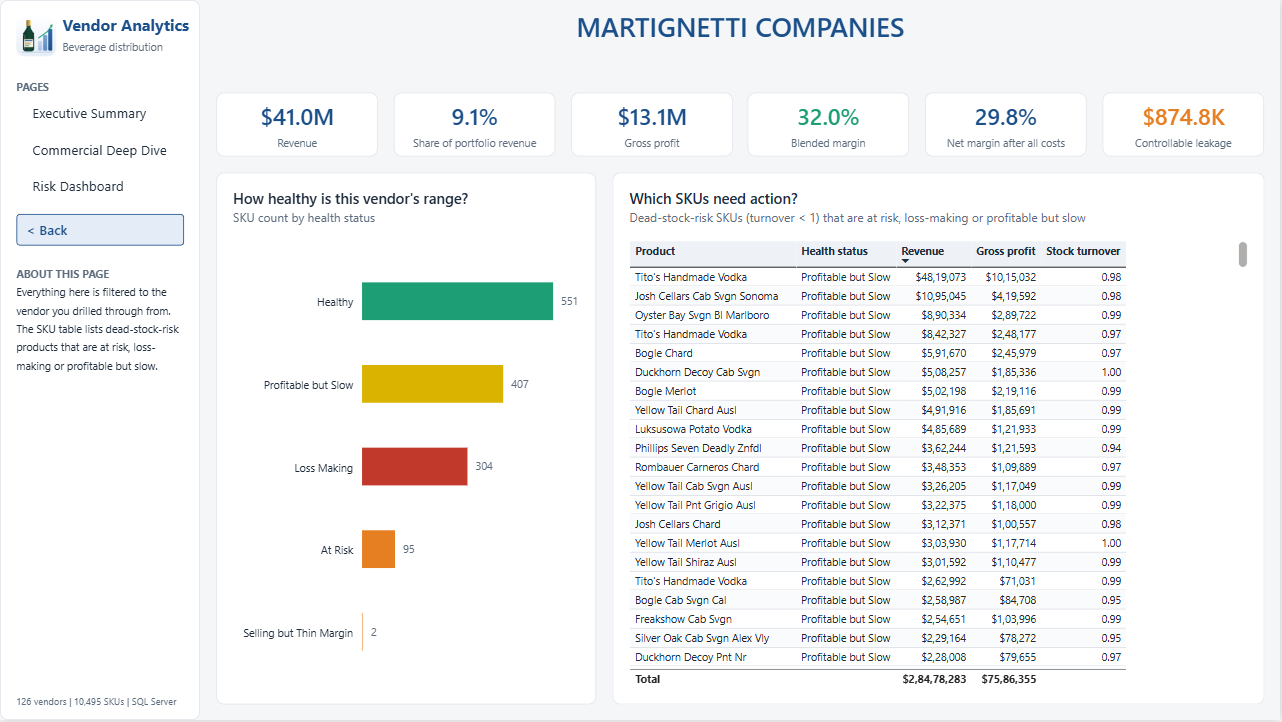

Layout of this report page (visuals, bound fields, positions):
{"tool":"powerbi","page":{"name":"Vendor Detail","canvas":[1920,1080],"ordinal":3},"visuals":[{"type":"actionButton","box":[0,0,100,40],"z":0},{"type":"card","fields":{"Values":["_Revenue Measures.Total Revenue"]},"box":[29.9,64,409.6,125.9],"z":1000},{"type":"card","fields":{"Values":["_Revenue Measures.Total Gross Profit"]},"box":[522.7,64,413.9,125.9],"z":2000},{"type":"card","fields":{"Values":["_Logistics and Cost Measures.Avg Net Margin After All Costs %"]},"box":[1017.6,64,411.7,125.9],"z":3000},{"type":"card","fields":{"Values":["_Revenue Measures.Total SKUs"]},"box":[1497.6,64,403.2,125.9],"z":4000},{"type":"tableEx","fields":{"Values":["vendor_sales_summary.VendorName","vendor_sales_summary.Description","Sum(vendor_sales_summary.TotalSalesDollars)","Sum(vendor_sales_summary.GrossProfit)","vendor_sales_summary.StockTurnover"]},"box":[0,497.1,906.7,582.4],"z":5000},{"type":"card","fields":{"Values":["_Commercial_Measures.Loss Making Dead Stock SKUs"]},"box":[522.7,217.6,413.9,130.1],"z":6000},{"type":"card","fields":{"Values":["_Commercial_Measures.Dead Stock SKUs"]},"box":[29.9,217.6,409.6,130.1],"z":7000},{"type":"card","fields":{"Values":["_Commercial_Measures.Profitable but slow SKUs"]},"box":[1497.6,217.6,403.2,130.1],"z":8000},{"type":"card","fields":{"Values":["_Commercial_Measures.AT Risk SKUs"]},"box":[1017.6,217.6,411.7,130.1],"z":9000}]}

Visuals, with their boxes on the page's 1920x1080 design canvas (x1, y1, x2, y2). These are canvas units, not pixel positions in the 1282x722 screenshot, which may show the page scaled, cropped or inside an application window:
actionButton: 0,0,100,40
card - _Revenue Measures.Total Revenue: 30,64,440,190
card - _Revenue Measures.Total Gross Profit: 523,64,937,190
card - _Logistics and Cost Measures.Avg Net Margin After All Costs %: 1018,64,1429,190
card - _Revenue Measures.Total SKUs: 1498,64,1901,190
tableEx - vendor_sales_summary.VendorName x vendor_sales_summary.Description: 0,497,907,1080
card - _Commercial_Measures.Loss Making Dead Stock SKUs: 523,218,937,348
card - _Commercial_Measures.Dead Stock SKUs: 30,218,440,348
card - _Commercial_Measures.Profitable but slow SKUs: 1498,218,1901,348
card - _Commercial_Measures.AT Risk SKUs: 1018,218,1429,348
